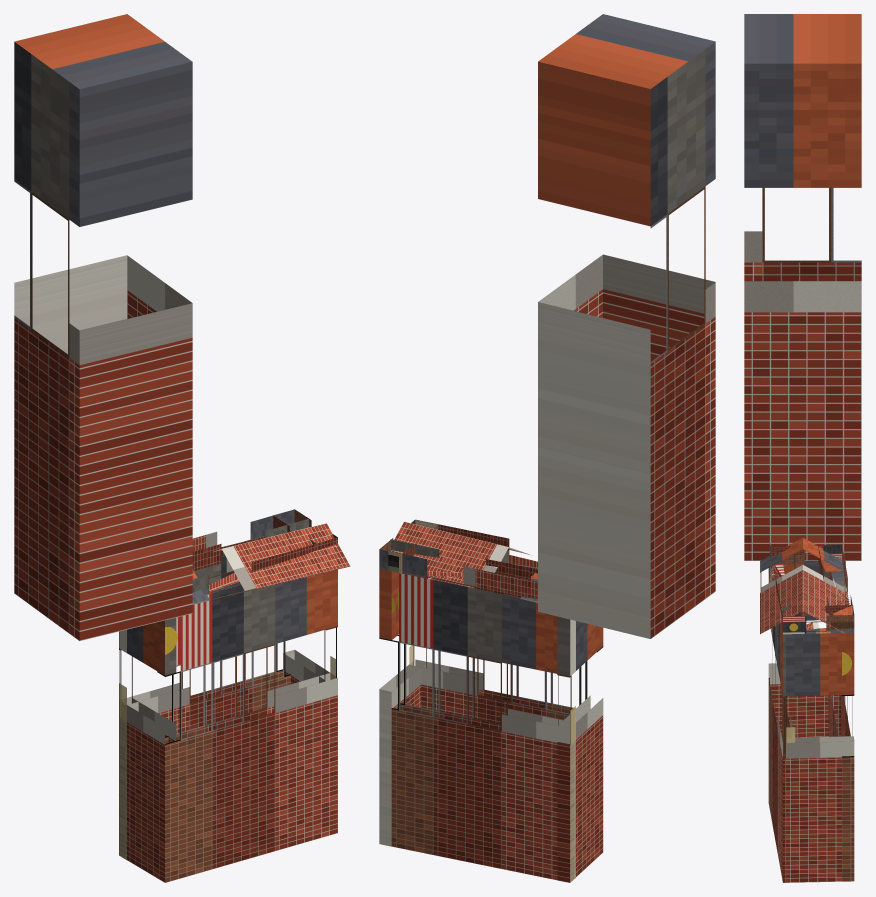
The picture shows the model from 3 angles, left to right: view 1: azimuth 30°, elevation 25°; view 2: azimuth 150°, elevation 25°; view 3: azimuth 270°, elevation 25°; orthographic projection. The views are drawn at different scales.
Visible parts, largest first — view 1: 1107107805__chimney_0_xb, 1107107805__wall_0_xb, 1107107805__wall_3_xb, 1107107805__wall_2_xb, 1107107805_roof_-1_xb, 1107107805__cornice_2, 1107107805__cornice_0, 1107107805__wall_1_xb; view 2: 1107107805__chimney_0_xb, 1107107805__wall_2_xb, 1107107805__wall_3_xb, 1107107805__wall_0_xb, 1107107805__wall_1_xb, 1107107805__cornice_2, 1107107805_roof_1_xb, 1107107805__cornice_0; view 3: 1107107805__chimney_0_xb, 1107107805__wall_1_xb, 1107107805__wall_0_xb, 1107107805__wall_3_xb, 1107107805__wall_2_xb, 1107107805_roof_-1_xb, 1107107805_roof_1_xb, 1107107805__cornice_1, 1107107805__cornice_2, 1107107805__cornice_3, 1107107805__cornice_0.
Part boxes in pixels (left/top/right/bottom): 1107107805__chimney_0_xb: left=14, top=14, right=192, bottom=640; 1107107805__wall_0_xb: left=157, top=569, right=337, bottom=882; 1107107805__wall_3_xb: left=119, top=617, right=176, bottom=882; 1107107805__wall_2_xb: left=119, top=555, right=290, bottom=859; 1107107805_roof_-1_xb: left=192, top=523, right=350, bottom=604; 1107107805__cornice_2: left=192, top=509, right=308, bottom=571; 1107107805__cornice_0: left=192, top=534, right=337, bottom=594; 1107107805__wall_1_xb: left=283, top=626, right=337, bottom=683; 1107107805__chimney_0_xb: left=538, top=14, right=715, bottom=638; 1107107805__wall_2_xb: left=379, top=573, right=575, bottom=882; 1107107805__wall_3_xb: left=557, top=616, right=603, bottom=882; 1107107805__wall_0_xb: left=409, top=565, right=603, bottom=723; 1107107805__wall_1_xb: left=379, top=569, right=426, bottom=846; 1107107805__cornice_2: left=379, top=539, right=537, bottom=599; 1107107805_roof_1_xb: left=390, top=521, right=537, bottom=602; 1107107805__cornice_0: left=411, top=520, right=537, bottom=567; 1107107805__chimney_0_xb: left=744, top=14, right=861, bottom=560; 1107107805__wall_1_xb: left=782, top=628, right=854, bottom=882; 1107107805__wall_0_xb: left=768, top=564, right=795, bottom=881; 1107107805__wall_3_xb: left=768, top=561, right=841, bottom=737; 1107107805__wall_2_xb: left=828, top=570, right=854, bottom=881; 1107107805_roof_-1_xb: left=760, top=538, right=802, bottom=634; 1107107805_roof_1_xb: left=803, top=538, right=845, bottom=634; 1107107805__cornice_1: left=781, top=605, right=854, bottom=634; 1107107805__cornice_2: left=818, top=543, right=854, bottom=633; 1107107805__cornice_3: left=770, top=544, right=842, bottom=564; 1107107805__cornice_0: left=769, top=543, right=806, bottom=633.
Size of the model in its own units: 0.3717 by 1.05 by 0.15.
Materials: 1 (1 with a texture image).
